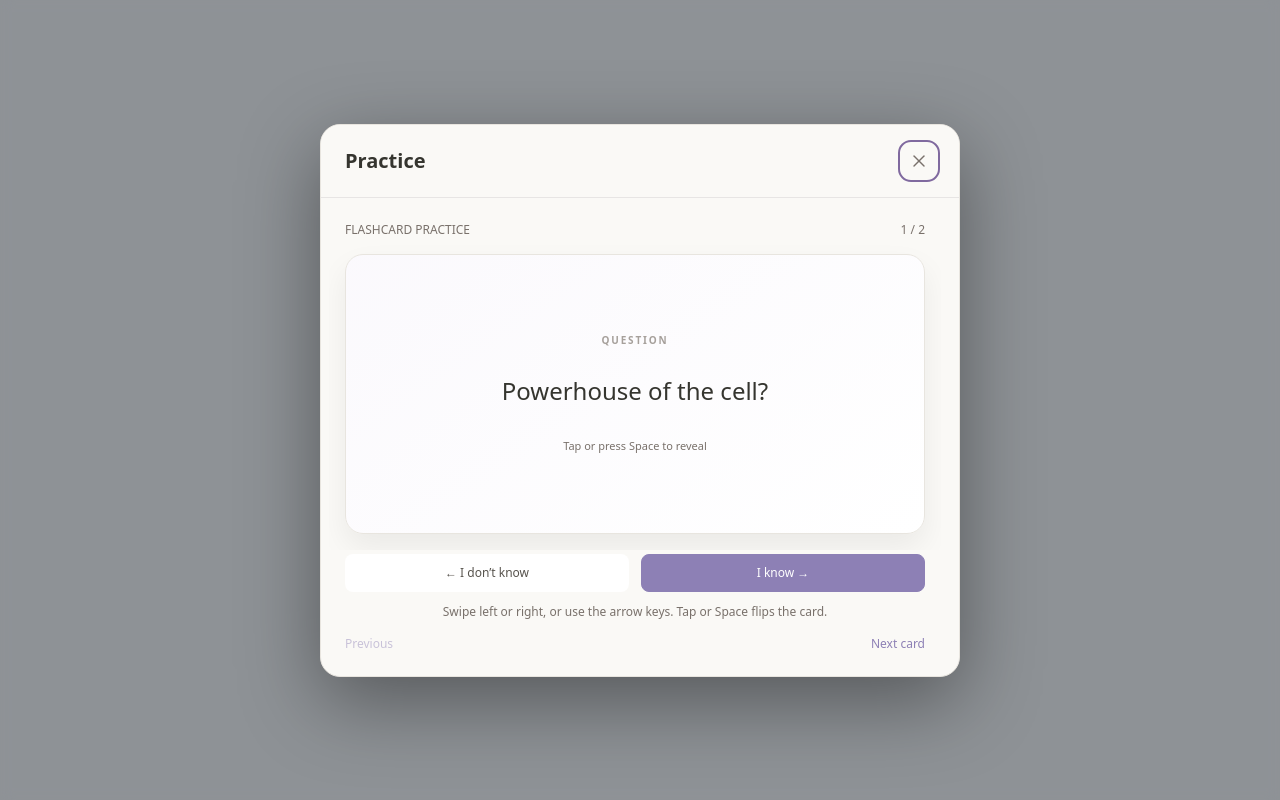
Test case: drag follows the finger, snaps back below threshold, and commits only after exit
Press the mouse on the button with aria-label "Question:" at (635, 394), box 345,254 -> 925,534
Expected: the text "1 / 2" is shown, 900,222 -> 925,238
Press the mouse on the button with aria-label "Question:" at (635, 394), box 345,254 -> 925,534
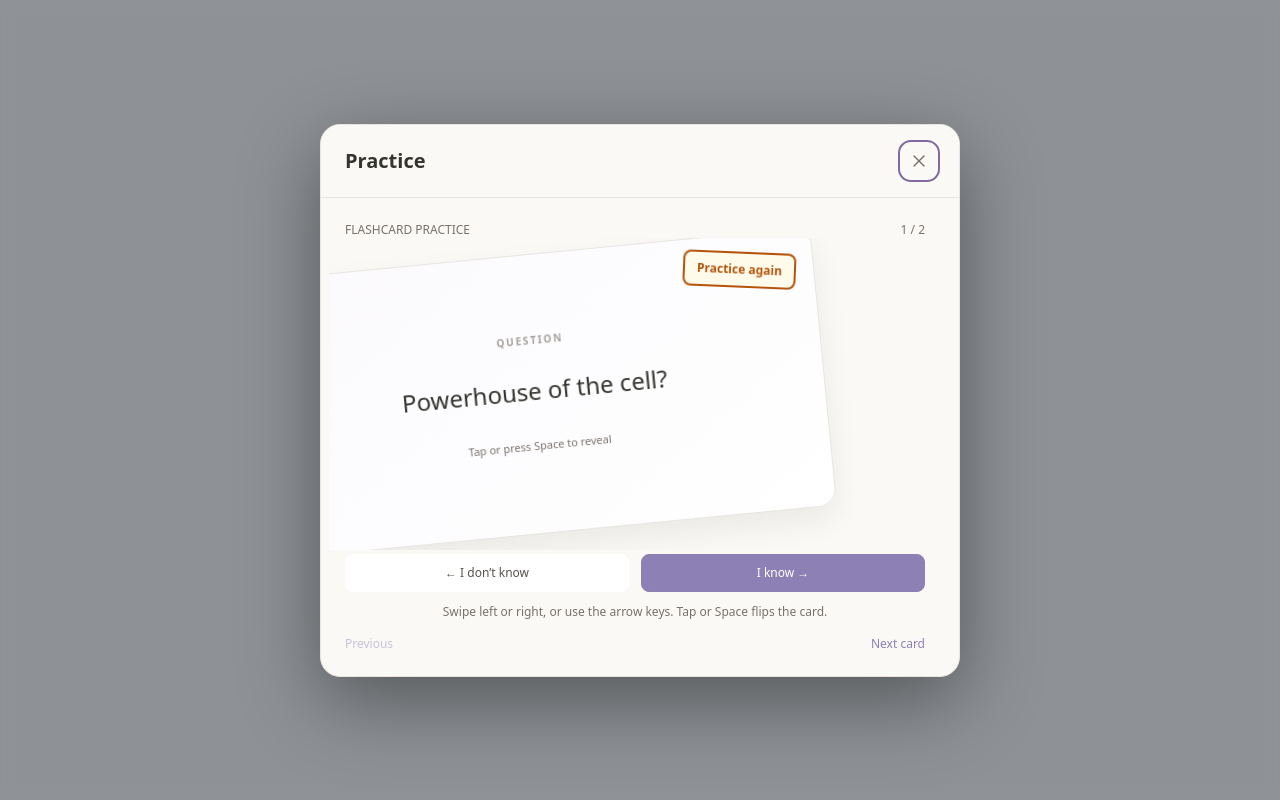
Expected: the text "1 / 2" is shown, 900,222 -> 925,238
Press ArrowRight in the button with aria-label "Question:", box 233,226 -> 837,561
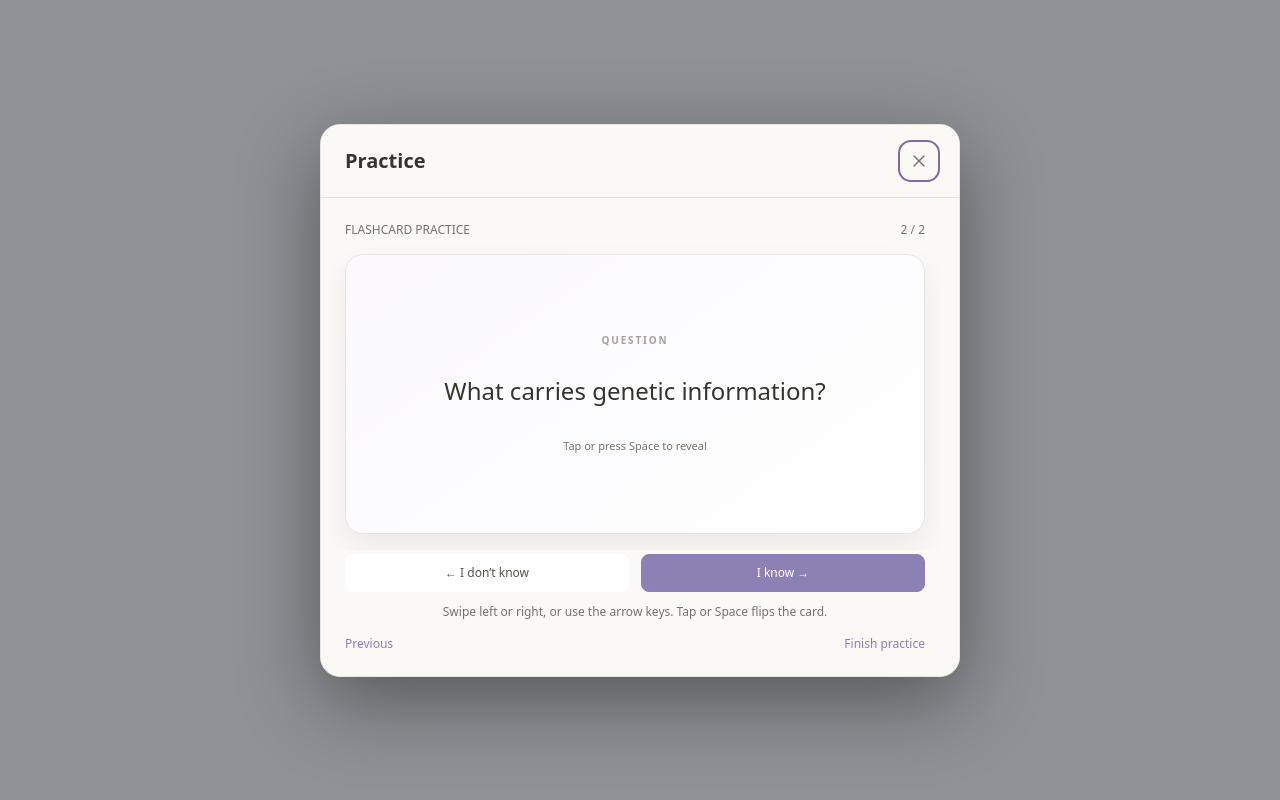
Expected: the text "2 / 2" is shown, 900,222 -> 925,238
